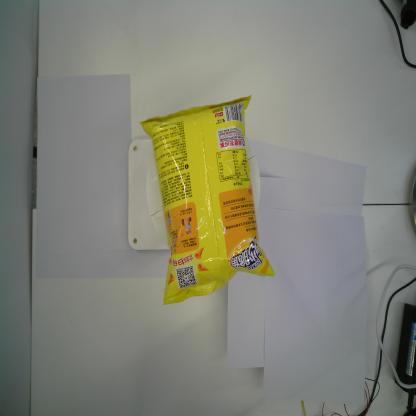Puffed Food: (138, 94, 276, 307)
